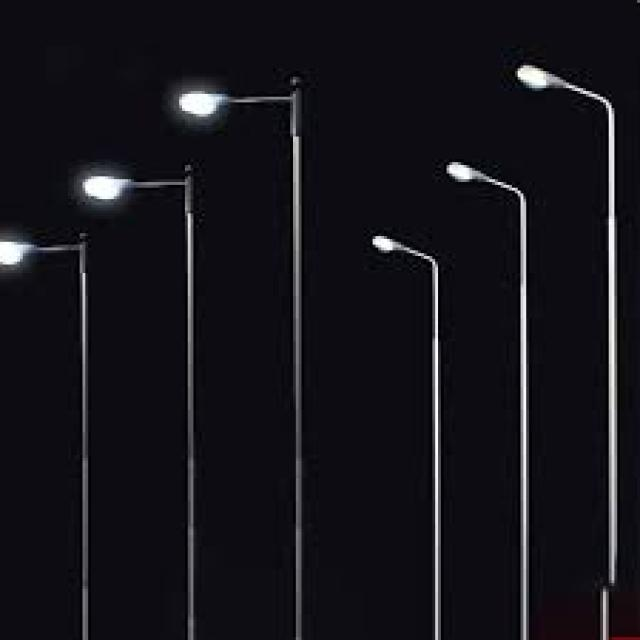Street Light: (176, 82, 304, 634), (512, 63, 626, 634), (82, 162, 202, 634), (444, 156, 529, 640), (2, 227, 88, 640), (370, 230, 441, 640)
